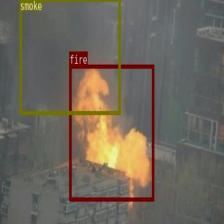fire: (69, 64, 154, 201)
smoke: (19, 0, 120, 114)
